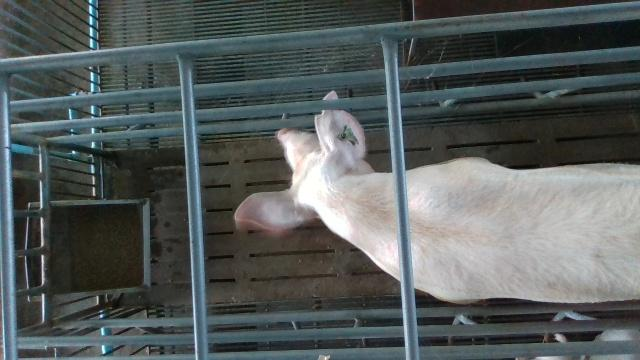sow-stand: (237, 90, 640, 305)
